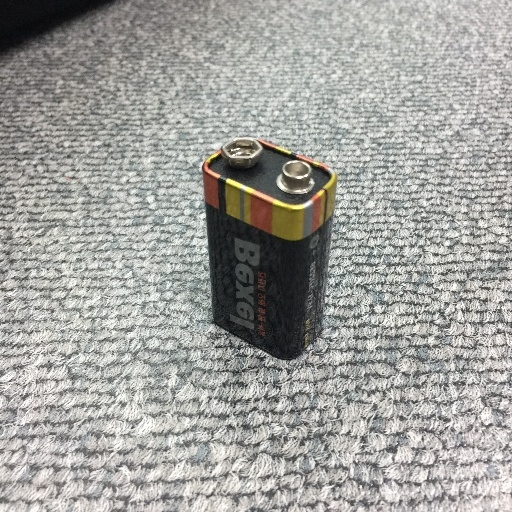Battery_3: (187, 121, 349, 380)
